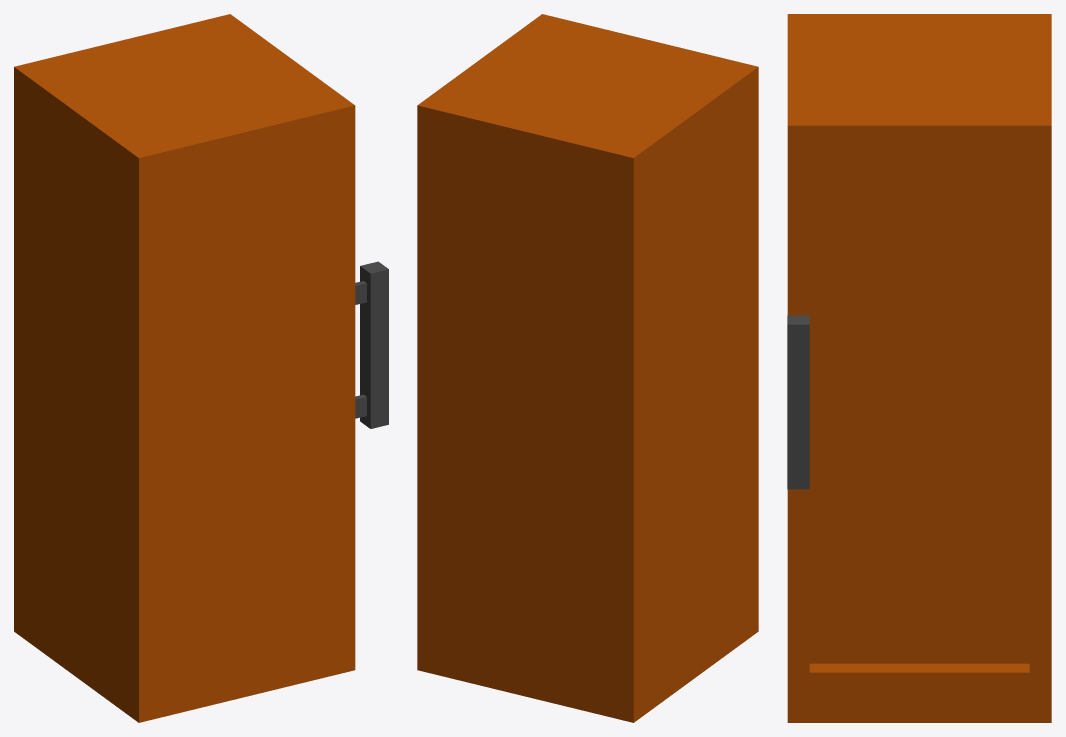
File: frigo_final.dae
3 views of the same model, side by side, from view 1: azimuth 30°, elevation 25°; view 2: azimuth 150°, elevation 25°; view 3: azimuth 270°, elevation 25° (orthographic). The views are drawn at different scales.
Visible parts, largest first — view 1: Cube_007; view 2: Cube_007; view 3: Cube_007.
Part boxes in pixels (bbox=[...]): Cube_007: bbox=[14, 14, 388, 722]; Cube_007: bbox=[417, 14, 758, 722]; Cube_007: bbox=[787, 14, 1051, 722].
Size of the model in its own units: 2.31 by 2 by 4.99.
